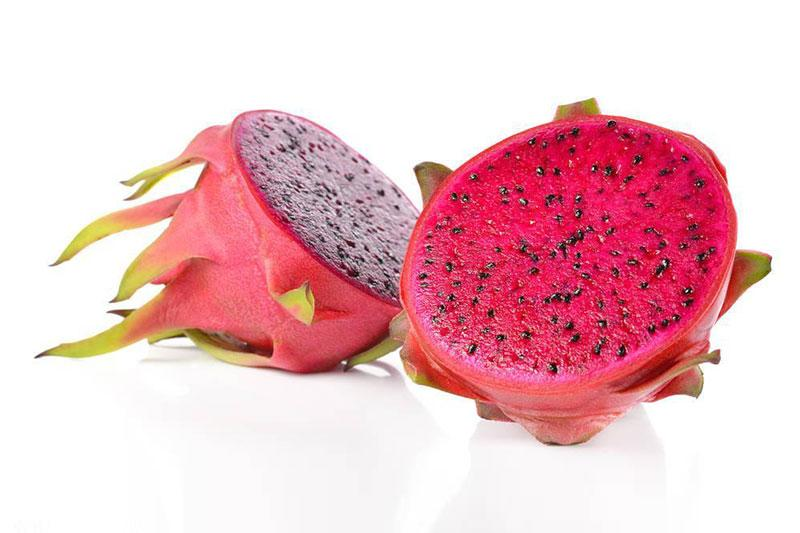dragon-fruit: (416, 83, 733, 434), (25, 108, 392, 395)
